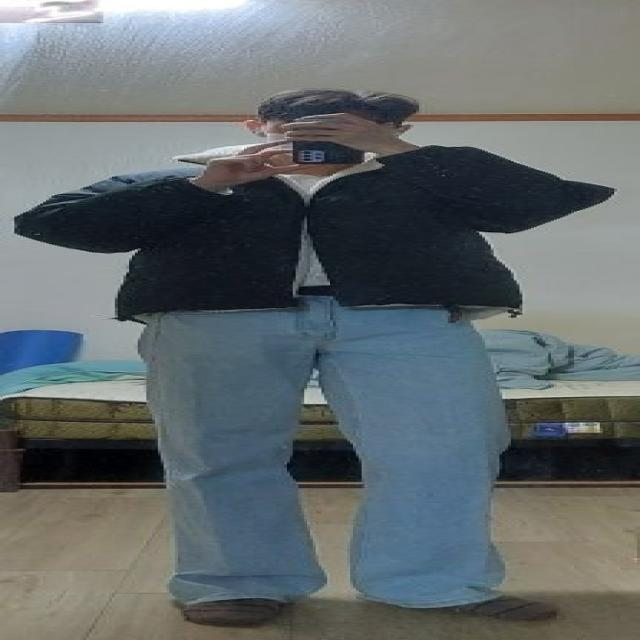denimpants: (137, 295, 514, 611)
padding: (22, 142, 619, 322)
